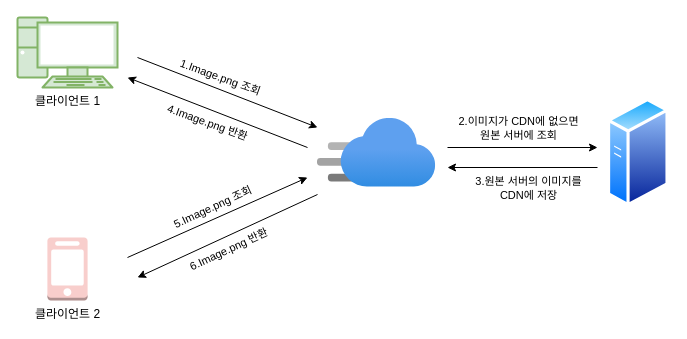
Some shapes in this 687 by 339 pixel diagram are drawn without their labels. Here are the shapes that lost their labels. From the top down, the centre of each, then its label:
the point at 376,152: CDN
the point at 638,152: 원본 서버
